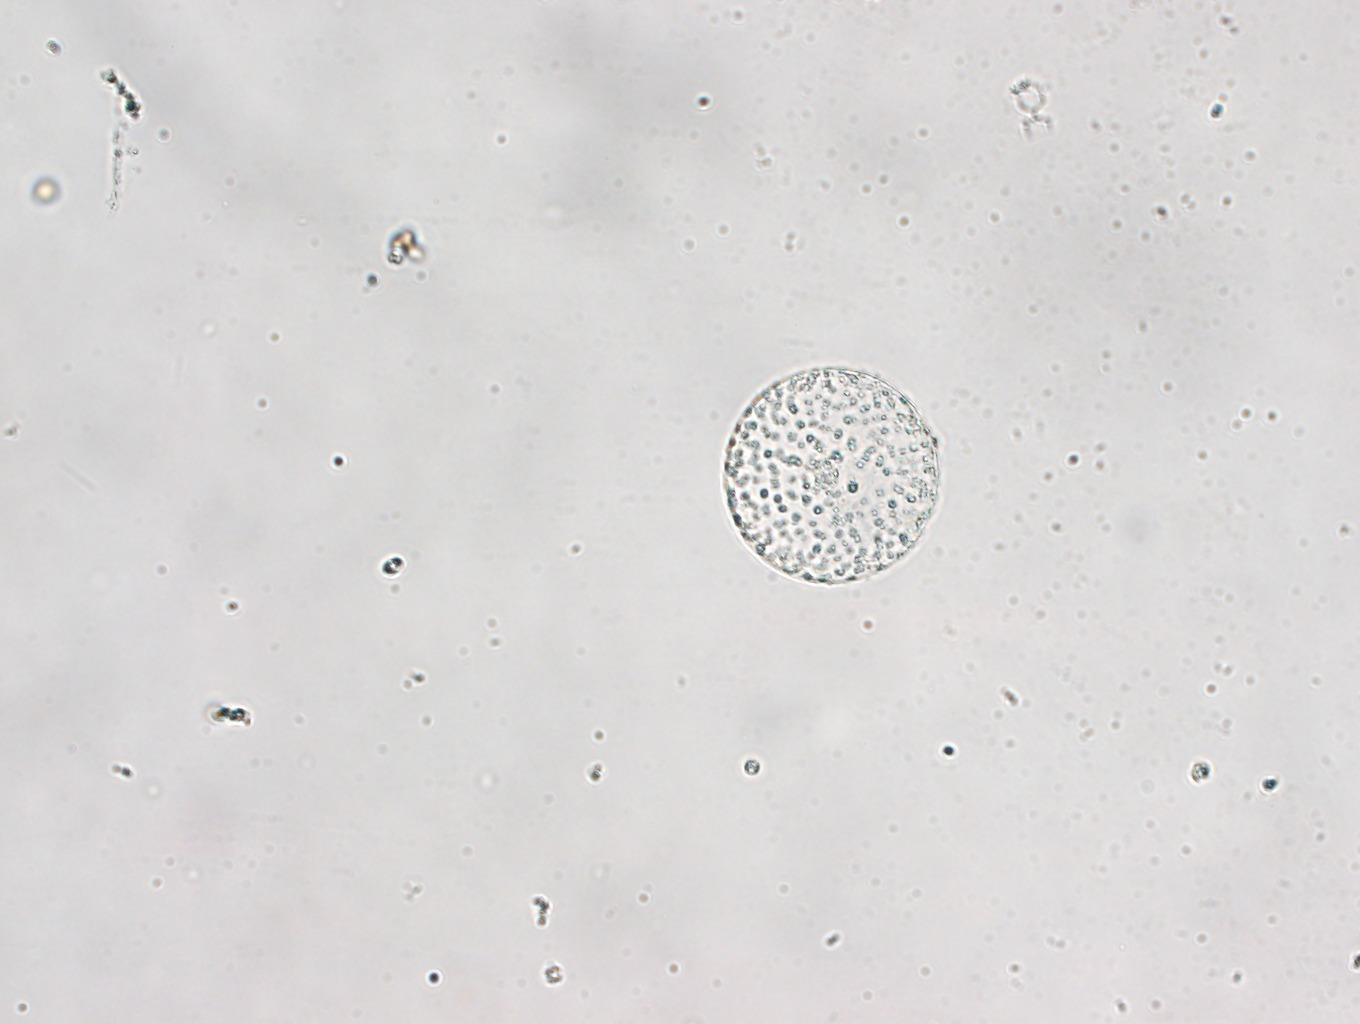coscinodiscus: (724, 366, 939, 586)
